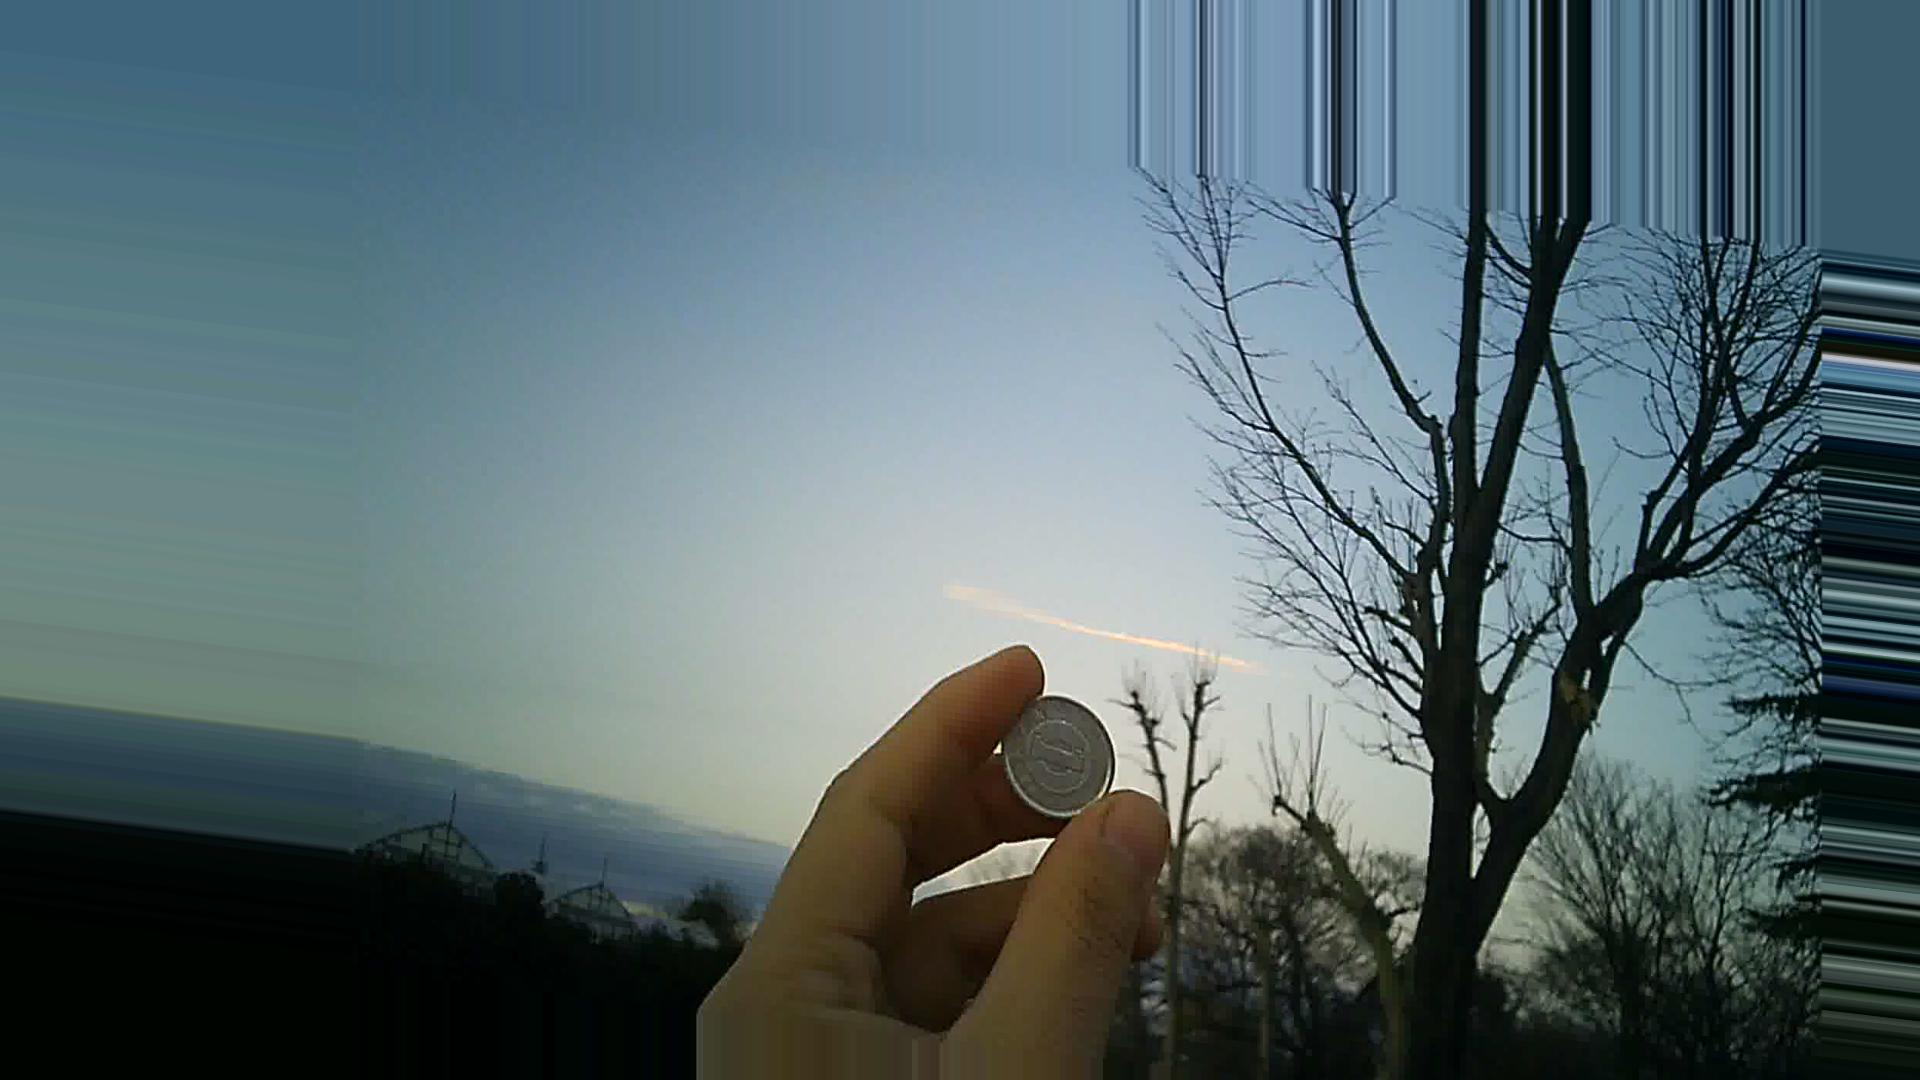1 Yen: (992, 675, 1130, 823)
